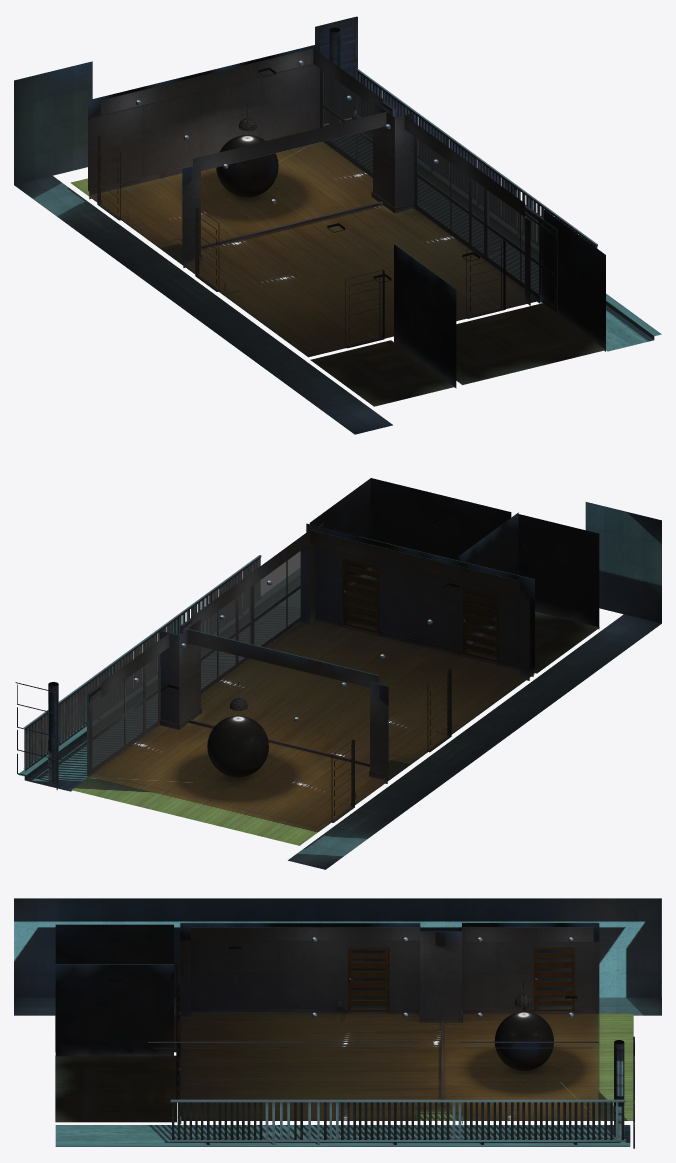
The picture shows the model from 3 angles, top to bottom: view 1: azimuth 30°, elevation 25°; view 2: azimuth 150°, elevation 25°; view 3: azimuth 270°, elevation 25°; orthographic projection. The views are drawn at different scales.
Parts seen in each view (by area): view 1: INTERIOR_Material #825_0, Exterior_Material #824_0, Vidrios_Vidrios_0, Ball; view 2: INTERIOR_Material #825_0, Exterior_Material #824_0, Vidrios_Vidrios_0, Ball; view 3: INTERIOR_Material #825_0, Exterior_Material #824_0, Ball.
Boxes of the visible parts, box(x1,y1,x2,y2) form: INTERIOR_Material #825_0: box(14, 43, 605, 434); Exterior_Material #824_0: box(88, 16, 661, 388); Vidrios_Vidrios_0: box(323, 71, 538, 294); Ball: box(216, 135, 278, 197); INTERIOR_Material #825_0: box(71, 502, 661, 869); Exterior_Material #824_0: box(15, 478, 599, 827); Vidrios_Vidrios_0: box(92, 551, 300, 768); Ball: box(207, 715, 268, 777); INTERIOR_Material #825_0: box(14, 898, 661, 1122); Exterior_Material #824_0: box(55, 924, 634, 1148); Ball: box(494, 1011, 553, 1070).
Bounding box in the file's own units: 163 × 51.21 × 292.
